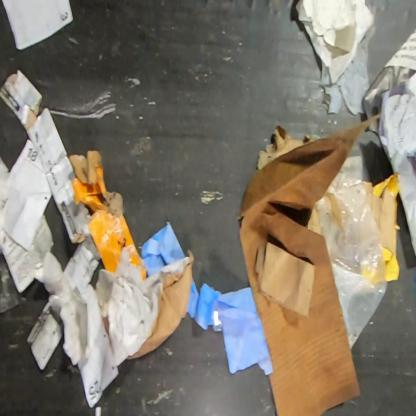cardboard: (238, 114, 378, 416), (94, 246, 196, 363), (68, 150, 147, 280), (363, 180, 397, 258)
rigid_plastic: (0, 252, 23, 314)
soft_plastic: (316, 171, 388, 351)
